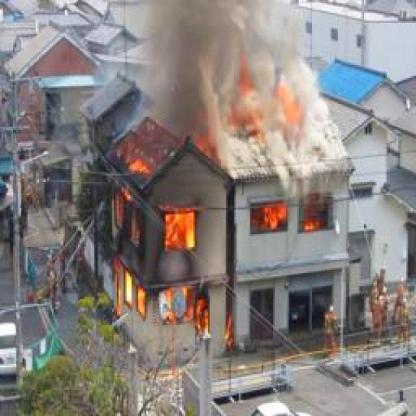fire: (103, 184, 235, 351), (216, 32, 310, 150), (252, 199, 286, 233)
